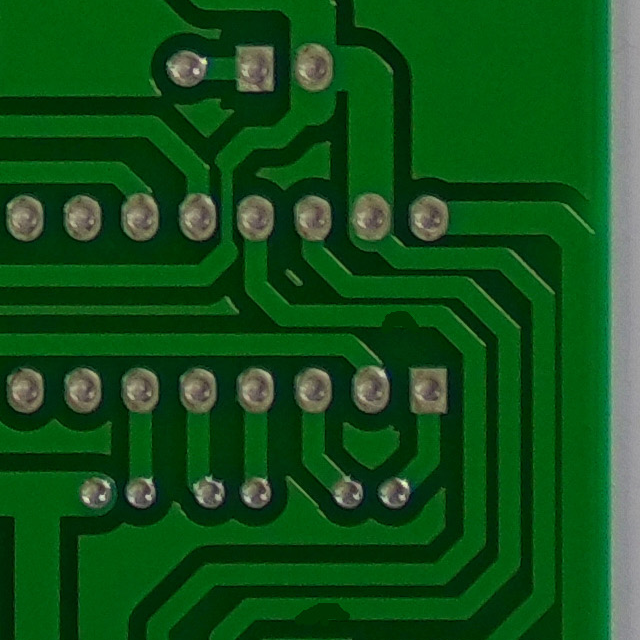mouse_bite: (279, 584, 362, 634), (366, 297, 429, 344)
